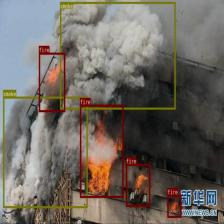fire: (80, 104, 123, 198), (39, 52, 65, 111), (126, 164, 150, 206), (167, 194, 182, 218)
smoke: (60, 2, 175, 109), (3, 96, 88, 208)
